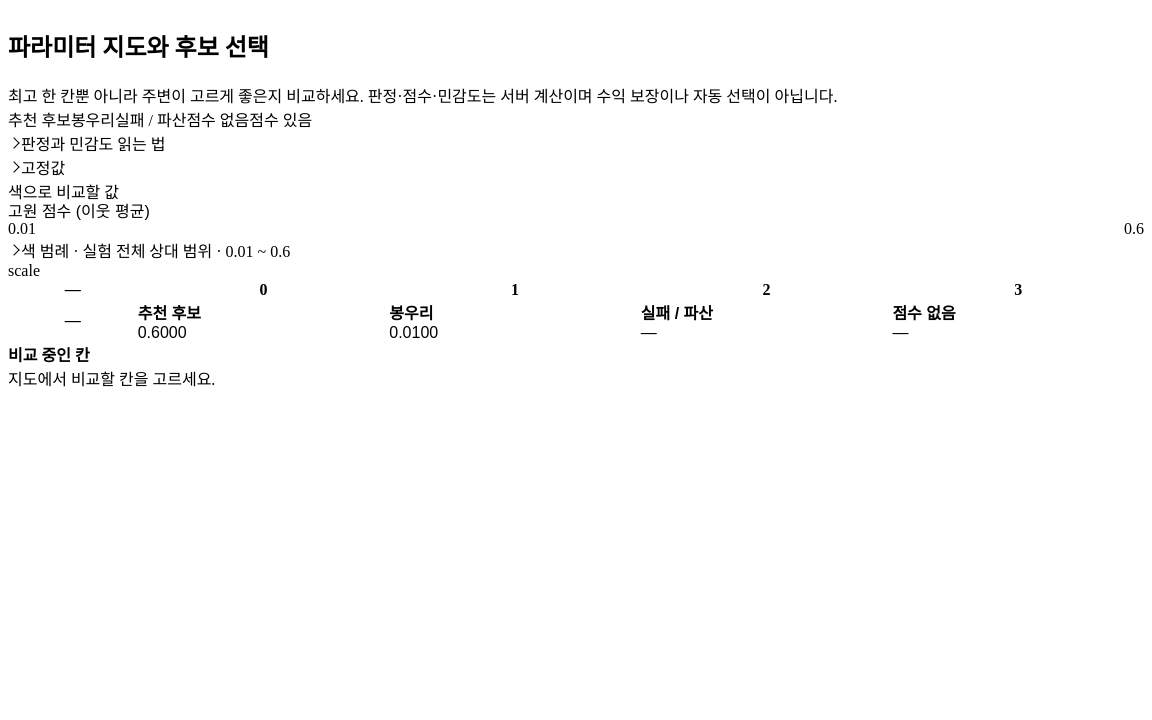
파라미터 지도와 명시적 후보 선택 › 아직 도는 실험은 완료한 칸도 후보 기록 폼 대신 남은 trial을 보여준다
The image size is (1152, 720).
Click the button with aria-label "scale 0 · 추천 후보" at (264, 321), box [138,300,389,342]
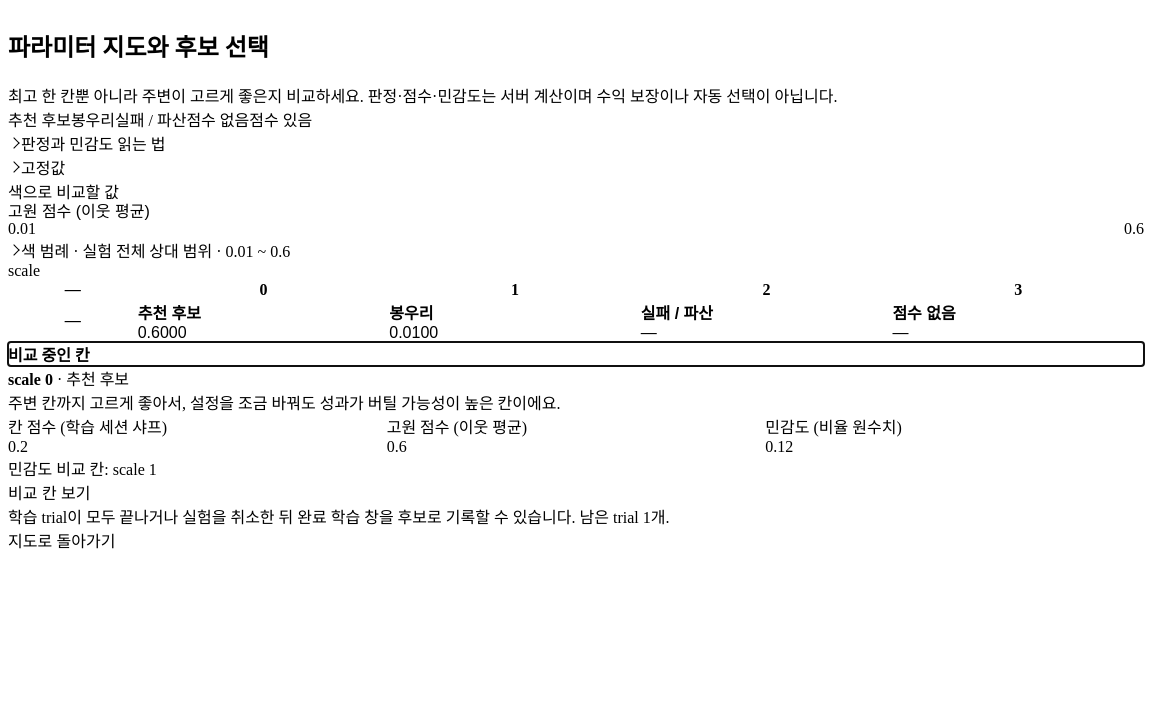
Check: the element "비교 중인 칸" shows "남은 trial 1개", box [8,509,670,526]
